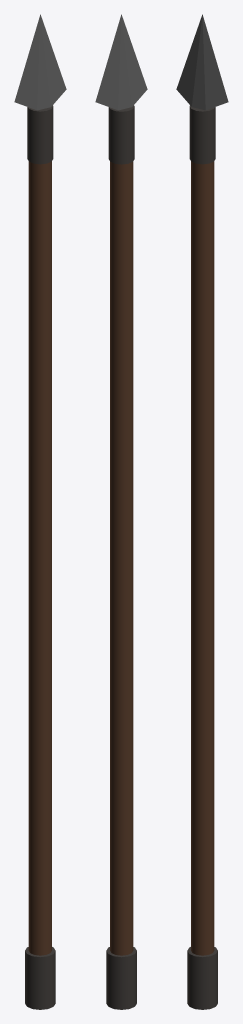
The model's file is Pike.fbx.
3 renders of one model, left to right at view 1: azimuth 30°, elevation 25°; view 2: azimuth 210°, elevation 25°; view 3: azimuth 330°, elevation 25°, orthographic.
Visible parts, largest first — view 1: Pike_Baked; view 2: Pike_Baked; view 3: Pike_Baked.
Part boxes in pixels (x1,y1,x2,y2): Pike_Baked: (14, 14, 66, 1009); Pike_Baked: (95, 14, 147, 1009); Pike_Baked: (176, 14, 228, 1009).
Bounding box in the file's own units: 8.75 × 158 × 4.46.
Materials: 1 (1 with a texture image).
